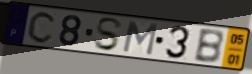3: (163, 25, 193, 61)
8: (58, 14, 83, 47)
B: (192, 29, 226, 65)
C: (26, 10, 58, 45)
M: (120, 19, 160, 57)
S: (92, 16, 124, 52)
